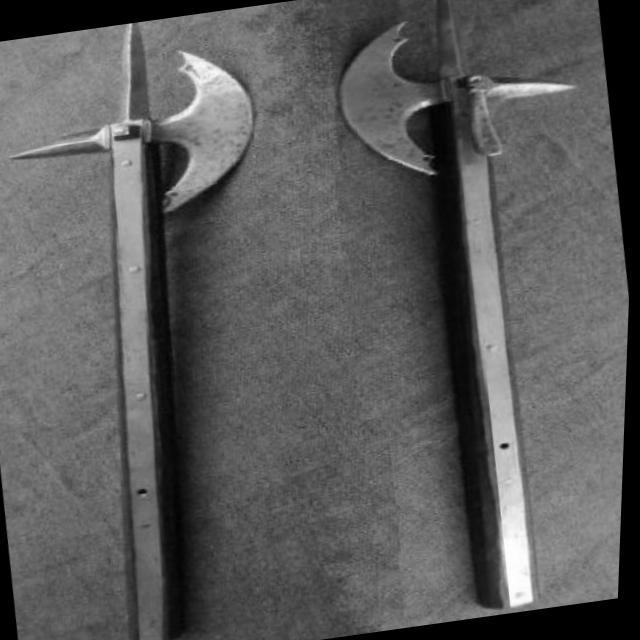weapon: (0, 7, 329, 640), (308, 0, 640, 625)
